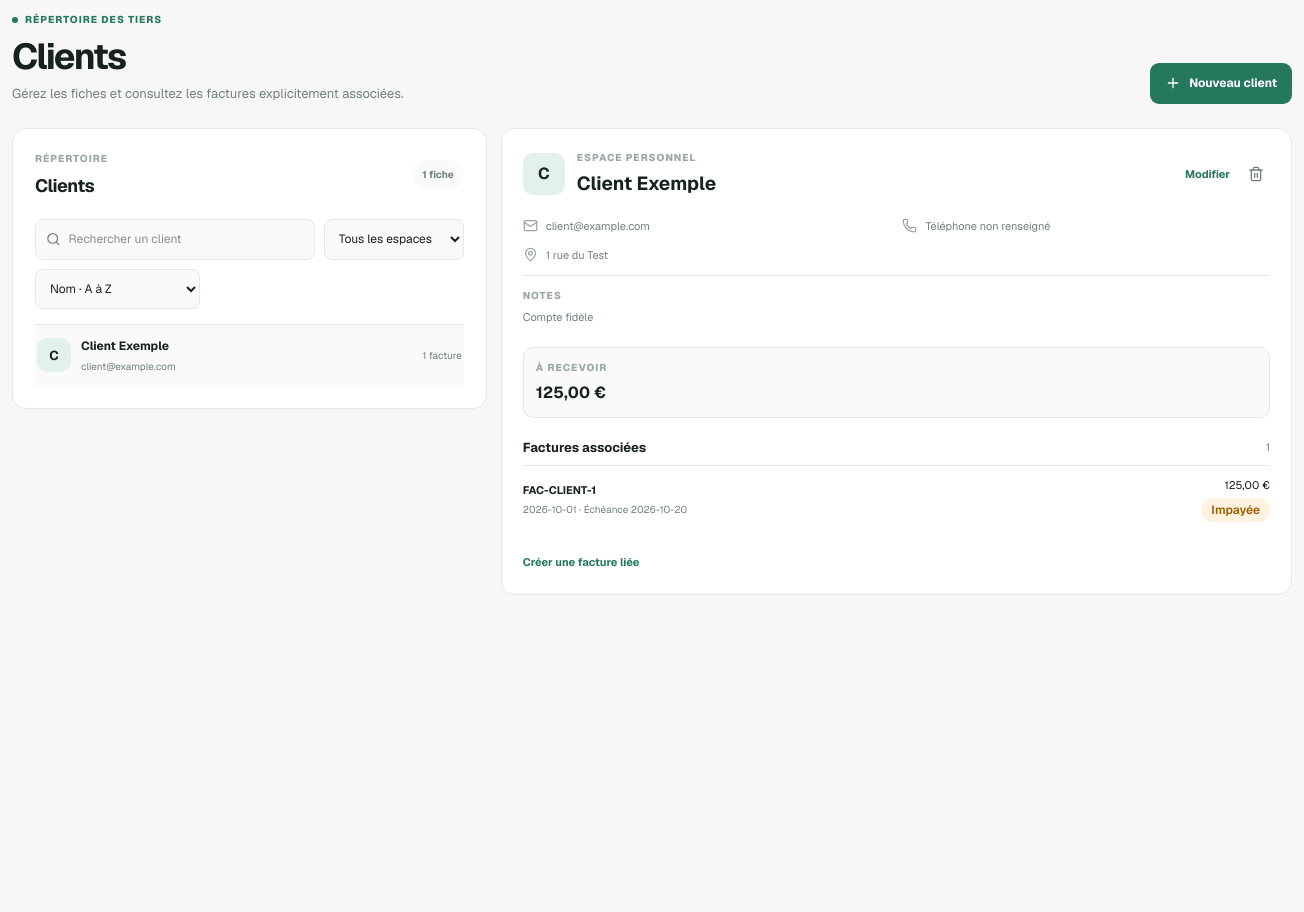
it: contact workspace › confirms deletion and refreshes without claiming success when the action fails
This screenshot has width=1304, height=912.
Step 1. Click the button named "Supprimer Client Exemple" → (1256, 174), box [1242,160,1270,188]
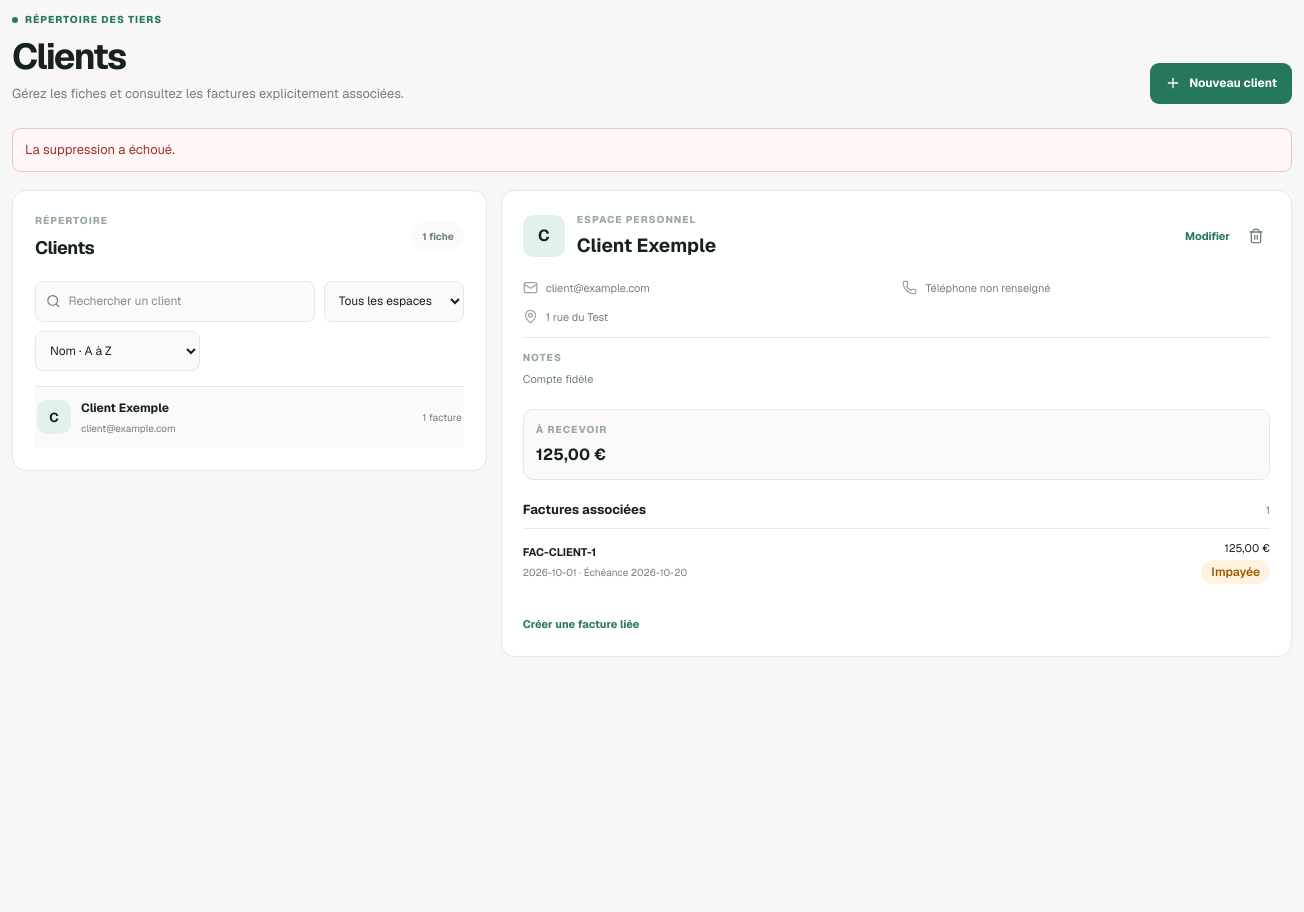
Now the message shows "suppression a échoué", box [25,141,175,158]
